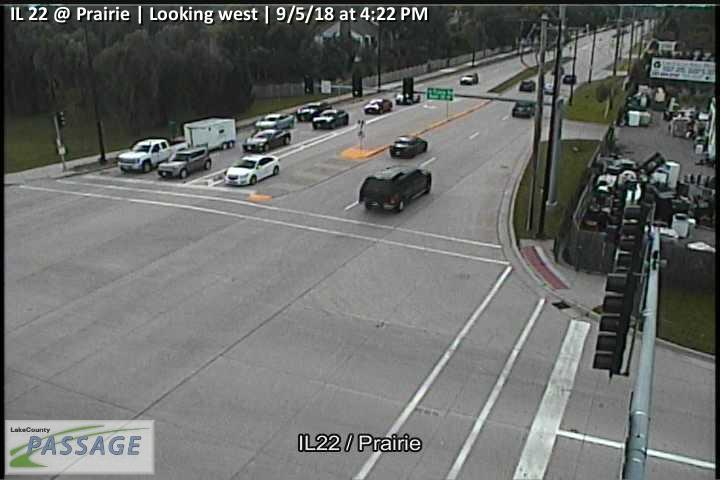SUV: (359, 165, 433, 212), (156, 146, 213, 179)
Sedan: (224, 153, 281, 186), (242, 128, 292, 152), (389, 134, 428, 158), (312, 109, 350, 129), (255, 112, 296, 130), (364, 97, 393, 114), (511, 100, 536, 118), (459, 72, 479, 85), (519, 78, 536, 92), (562, 74, 576, 85)
Truck: (117, 117, 237, 173)
